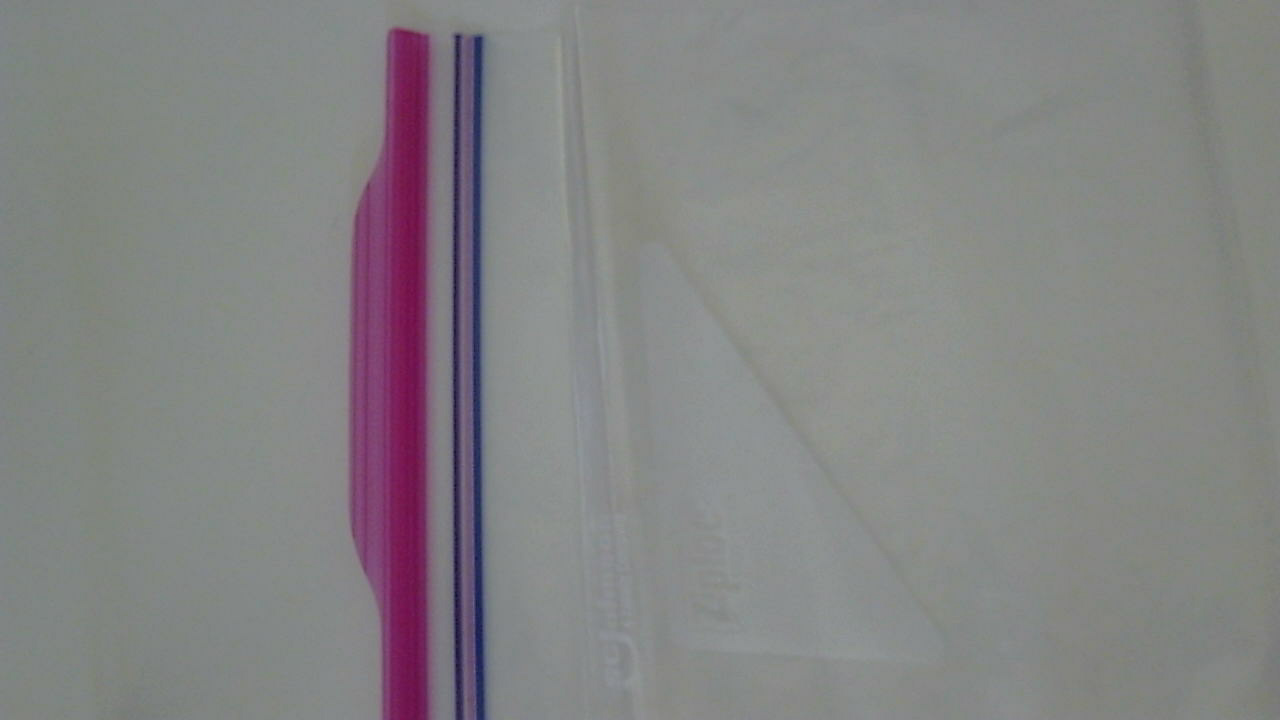Plastic Bag: (345, 12, 1277, 720)
